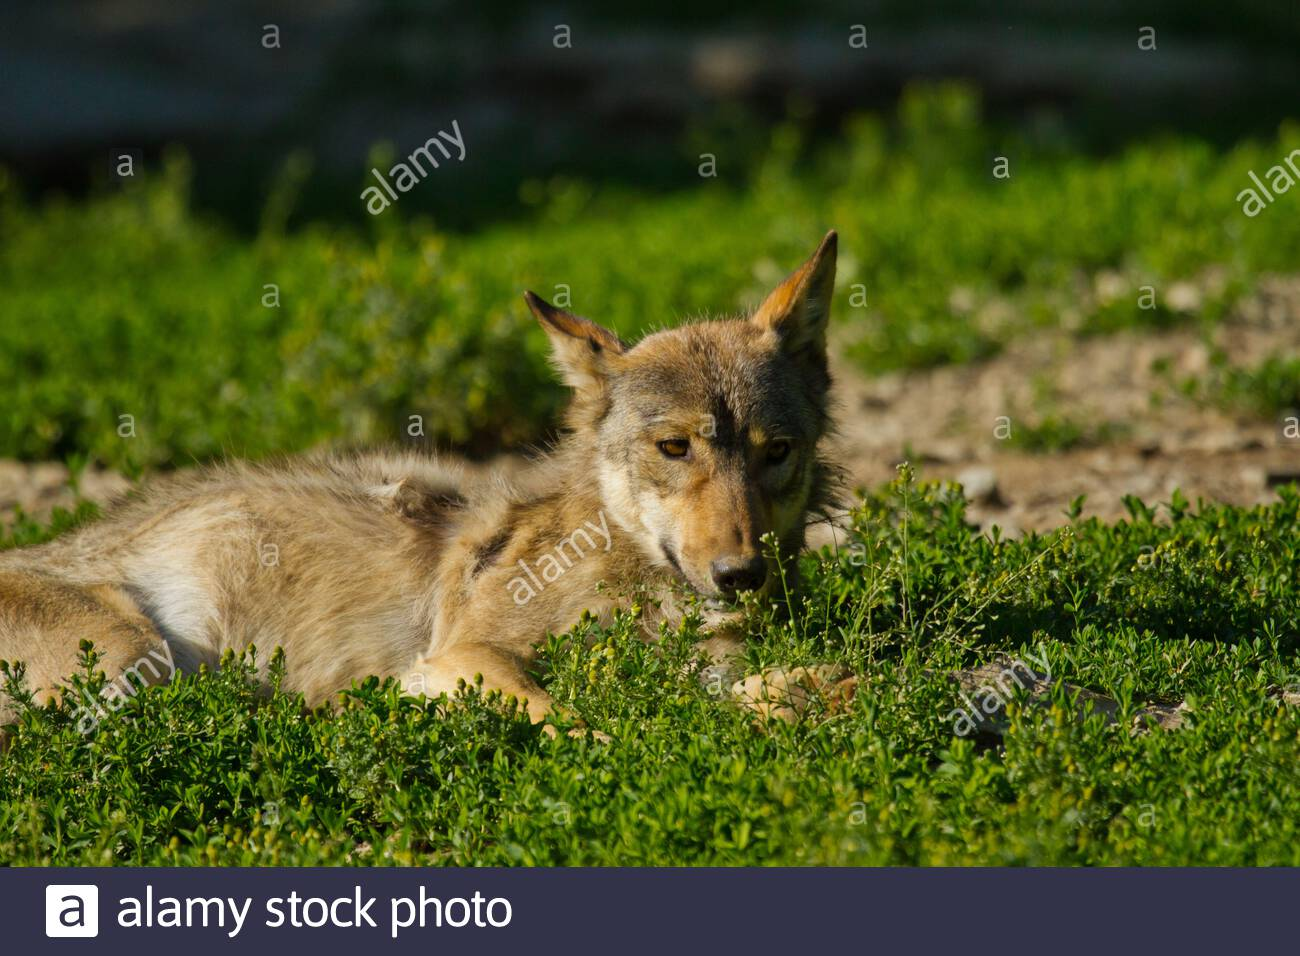Lobo: (92, 187, 889, 727)
